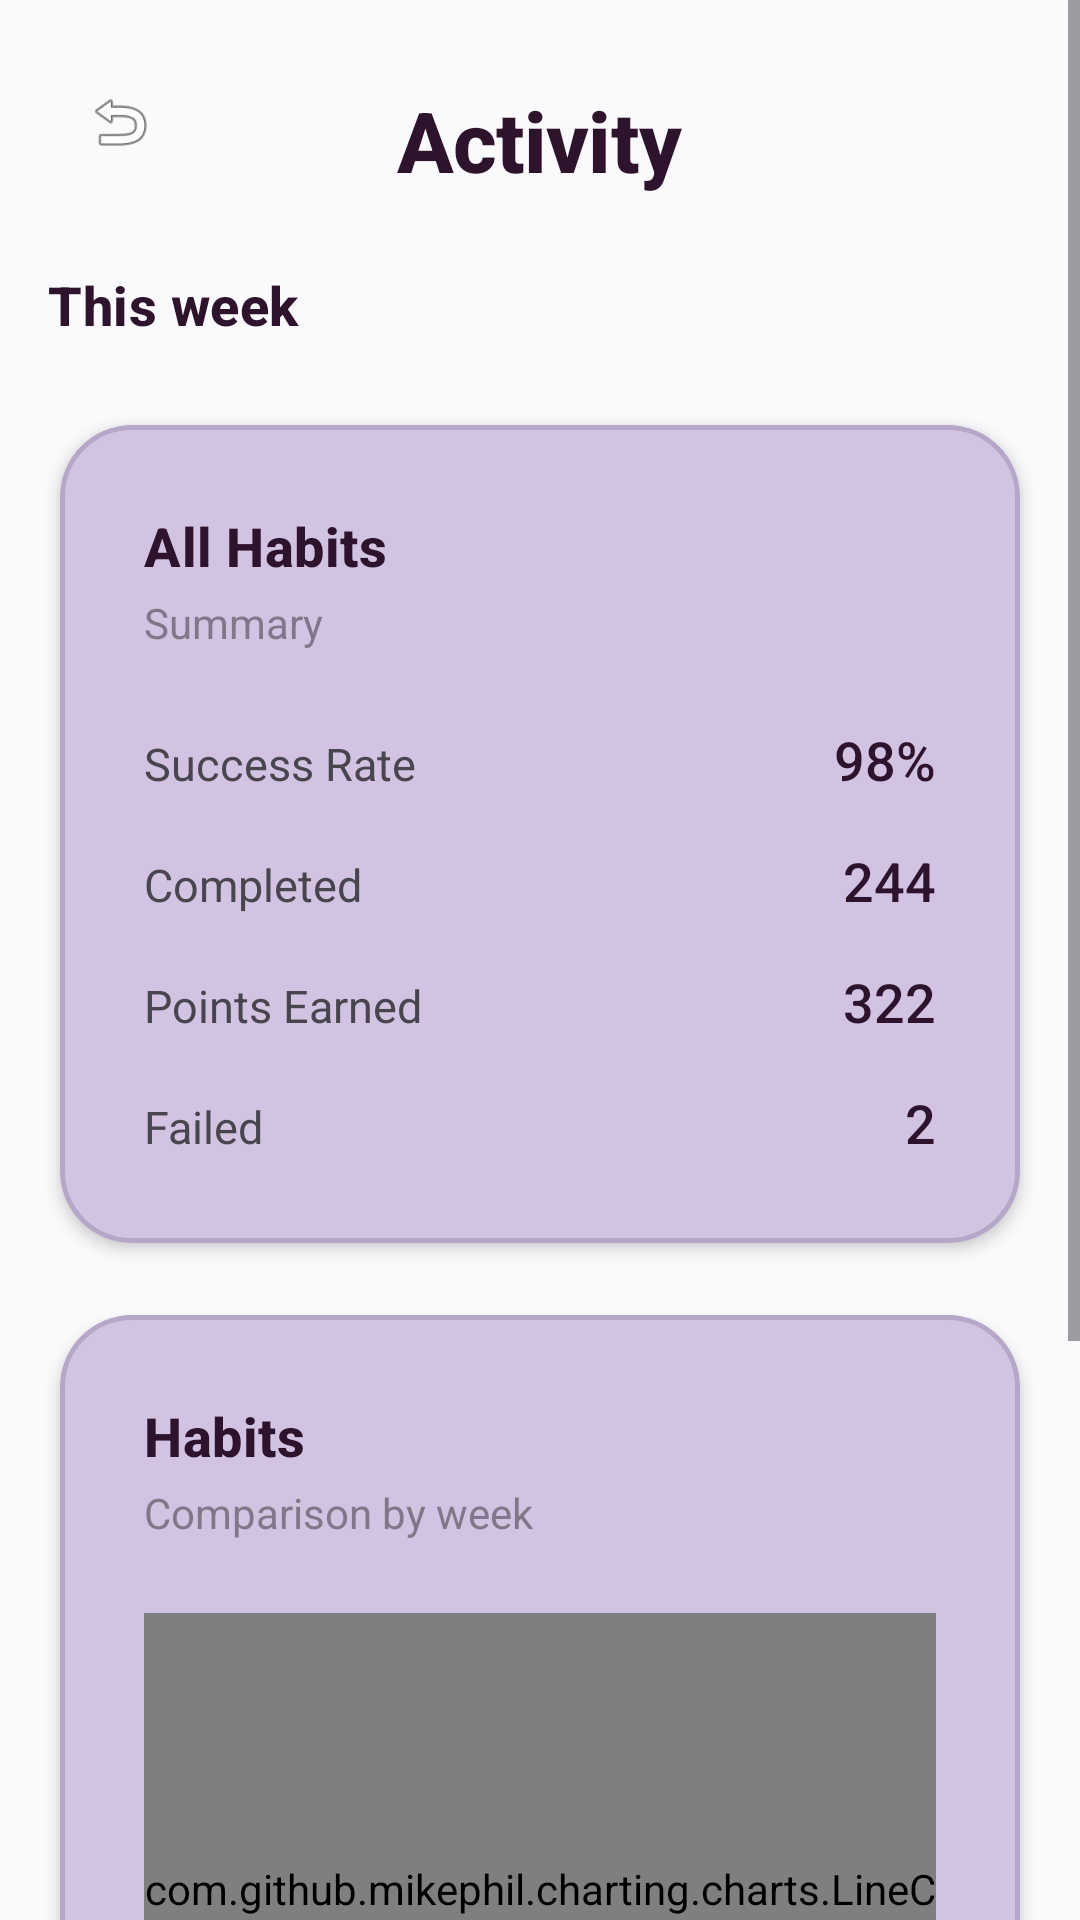

Where to tap for icons on this 1080 × 1920 app screen, as [x,y]:
revert: [121,122]
